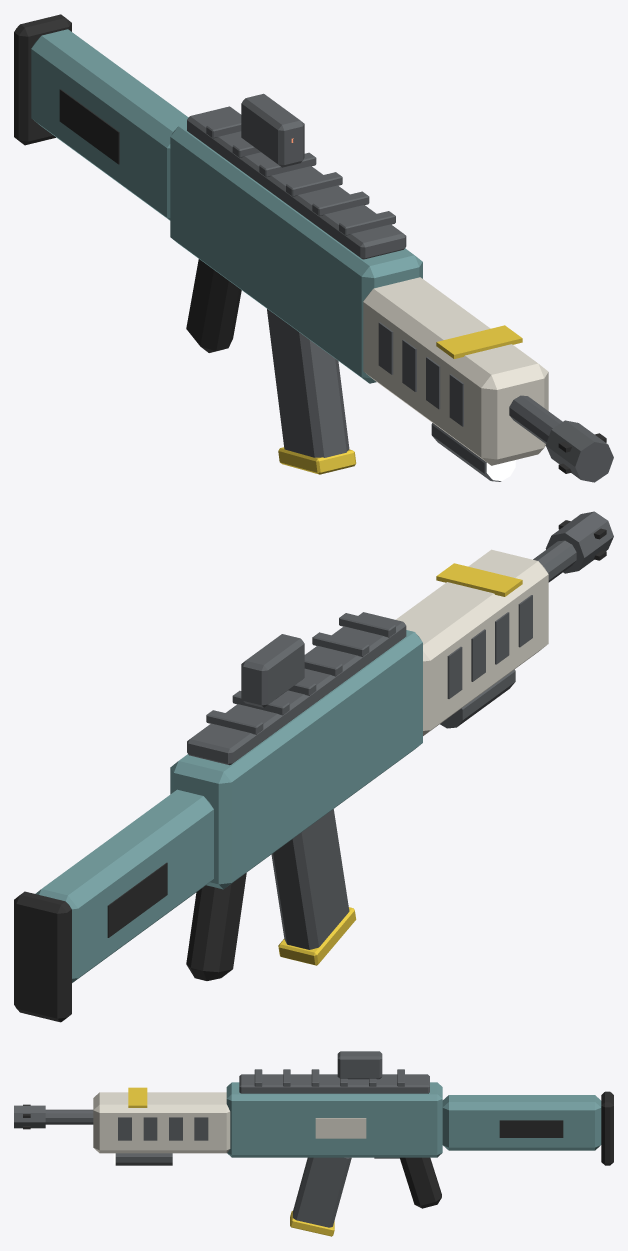
Rendered from weapon_issue_rifle.glb.
3 views of the same model, one above another, from view 1: azimuth 30°, elevation 25°; view 2: azimuth 150°, elevation 25°; view 3: azimuth 270°, elevation 25° (orthographic). The views are drawn at different scales.
Visible parts, largest first — view 1: weapon_issue_rifle; view 2: weapon_issue_rifle; view 3: weapon_issue_rifle.
Boxes of the visible parts, x1,y1,x2,y2 form: weapon_issue_rifle: (14, 14, 613, 482); weapon_issue_rifle: (14, 511, 613, 1022); weapon_issue_rifle: (14, 1051, 613, 1236).
Size of the model in its own units: 0.069 by 0.3098 by 0.945.
